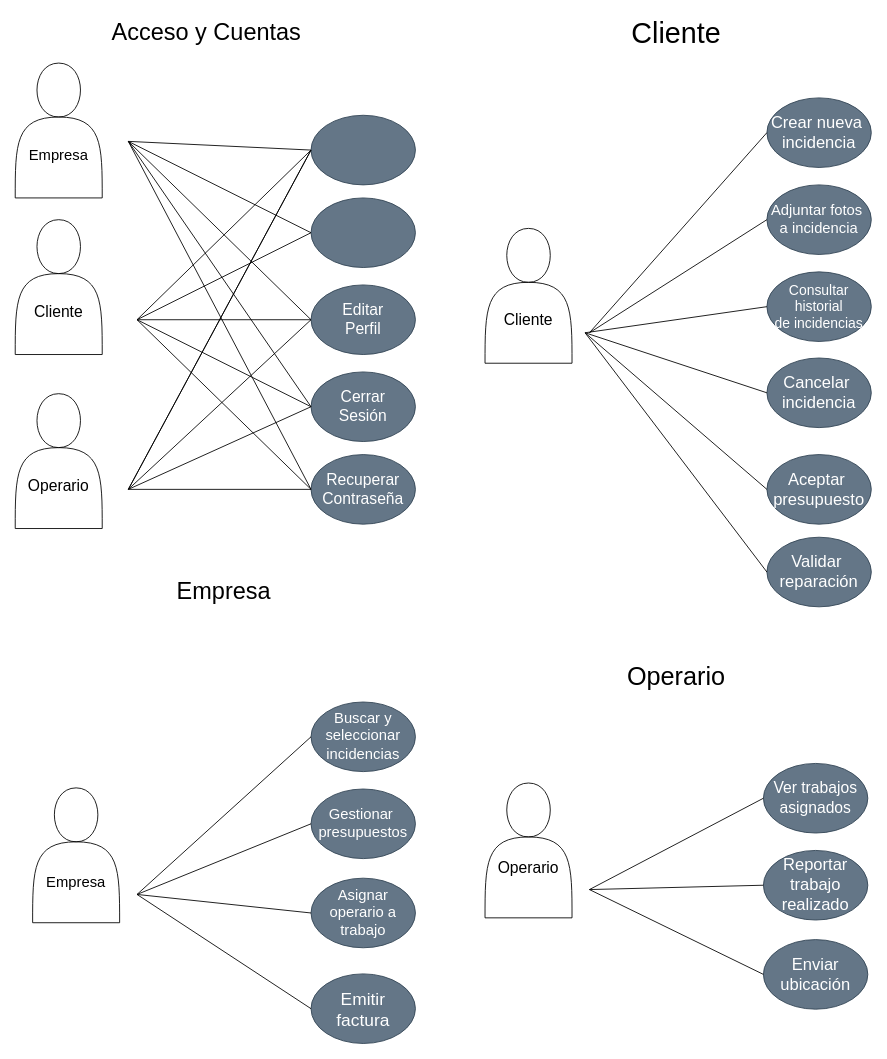
This 887x1059 diagram has some shape labels left out. The shapes that lost their labels are listed below. From the top down, each one's centre as x and y in pixels, then its label:
pixel 362 149: Registrarse
pixel 362 232: Iniciar Sesión
